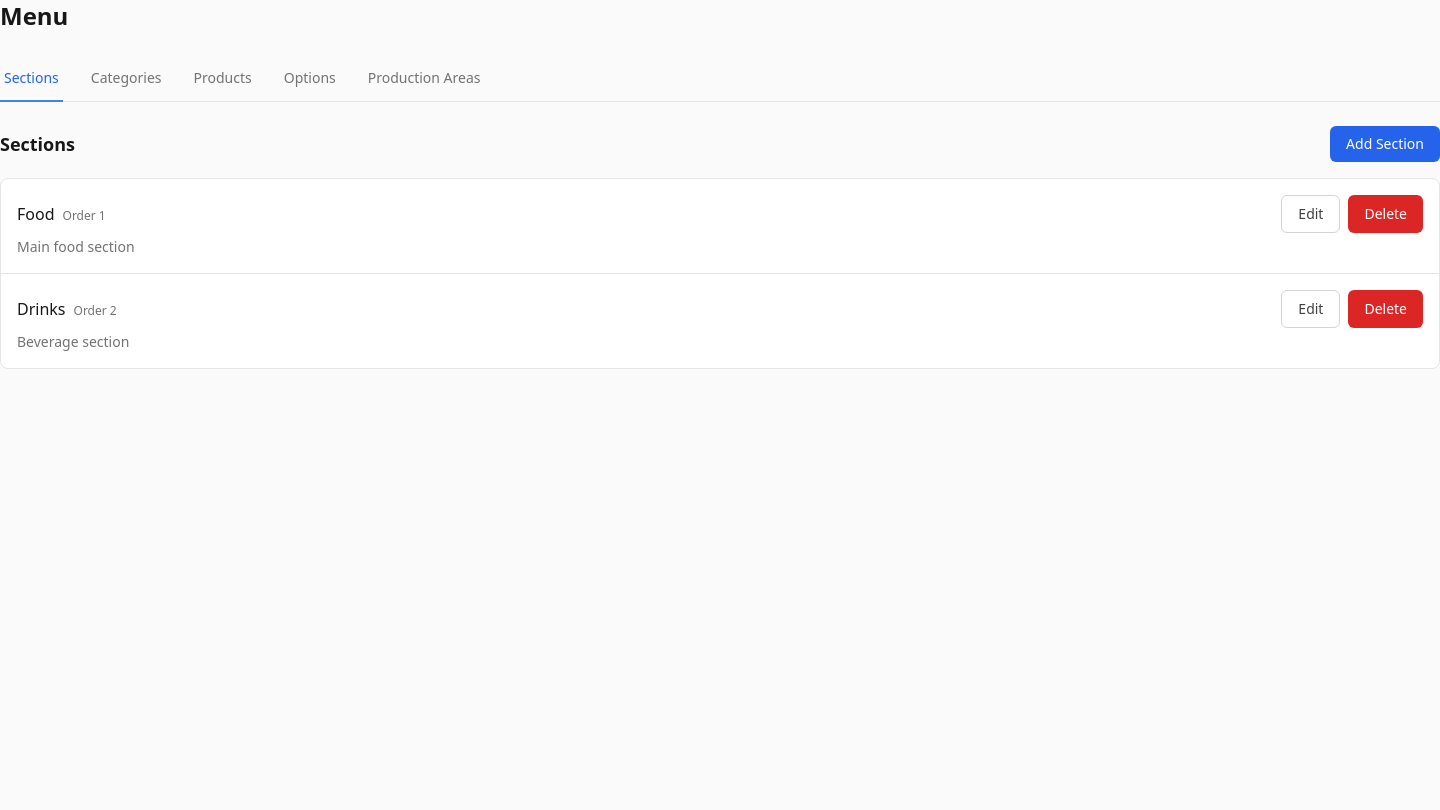
it: MenuPage › opens the edit modal when Edit is clicked on a section
Expected: the number of list items is 2, [1, 179, 1439, 273]; [1, 273, 1439, 368]
Click the 1st button "Edit".
click(1311, 214)  # box [1281, 195, 1340, 233]
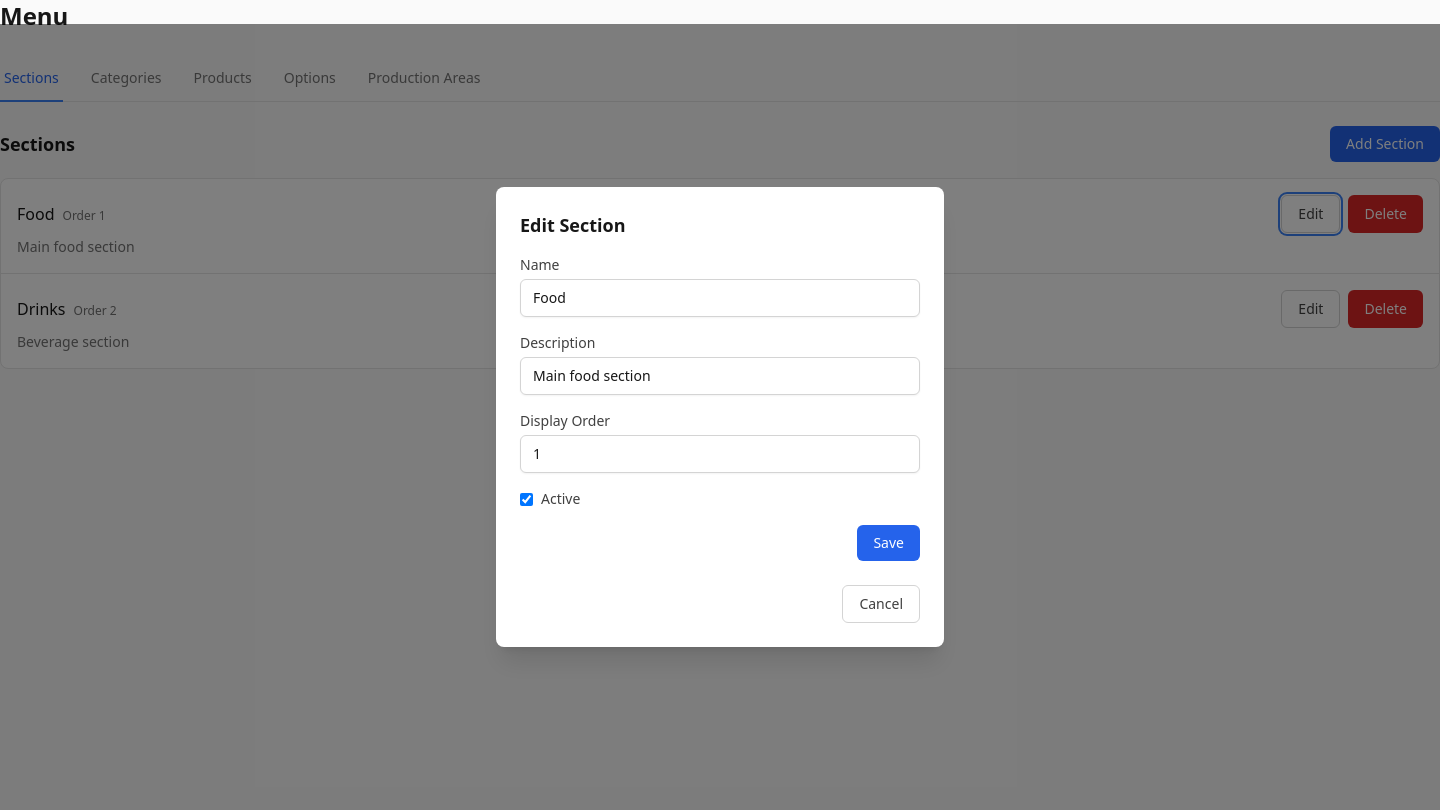
Result: the dialog is shown
Result: the field showing "Food" is shown at [520, 279, 920, 317]
